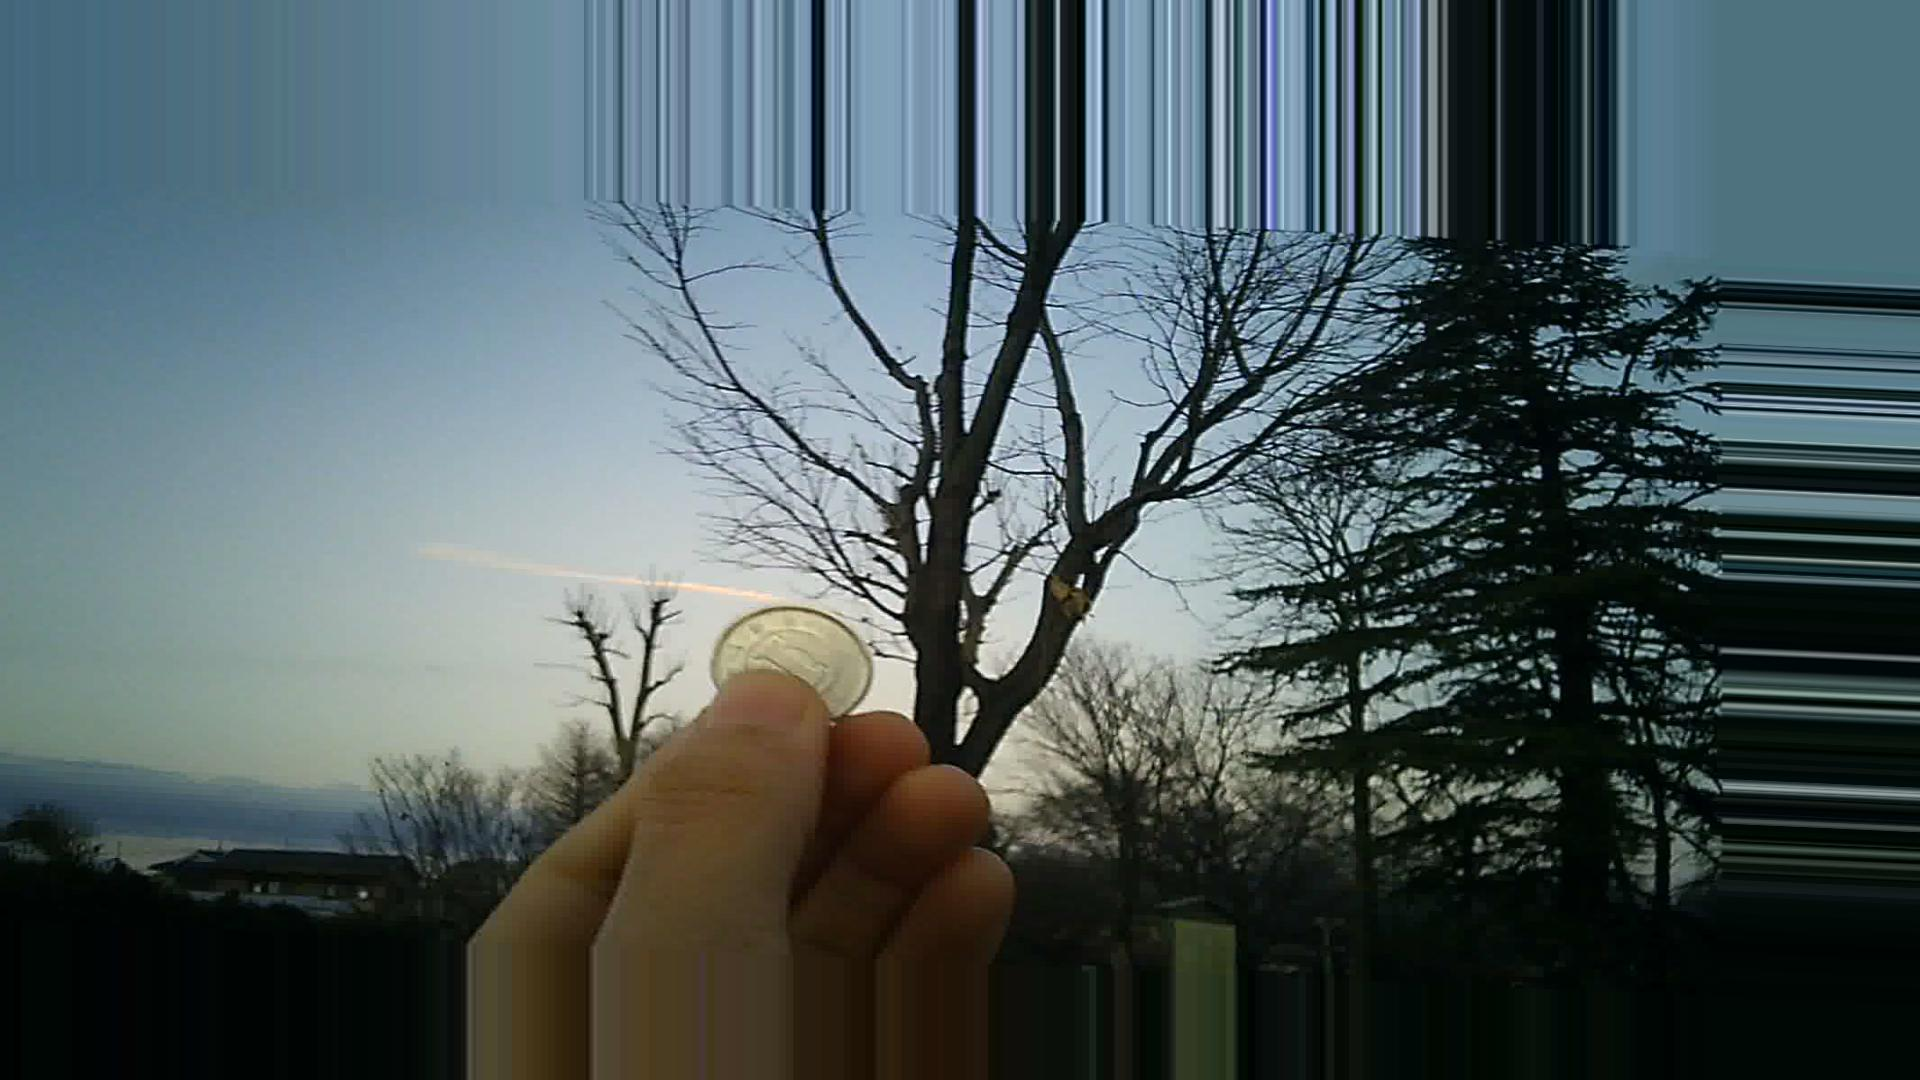1 Yen: (694, 588, 873, 713)
